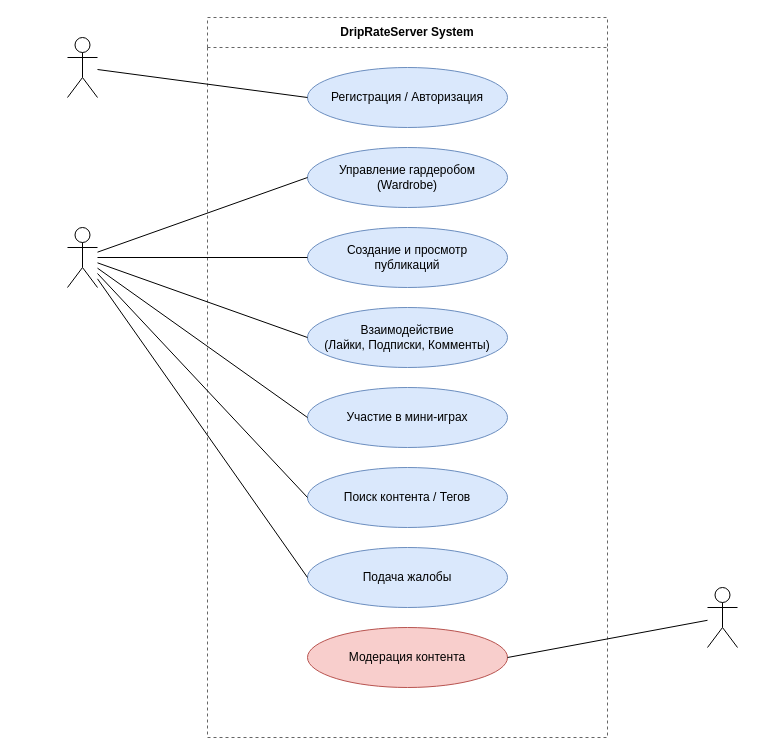
Some shapes in this 771 by 755 pixel diagram are drawn without their labels. The centre of each missing label's shape, as x and y in pixels:
"Зарегистрированный Пользователь" belongs at point 82,257.
"Модератор" belongs at point 722,617.
"Незарегистрированный Пользователь" belongs at point 82,67.
